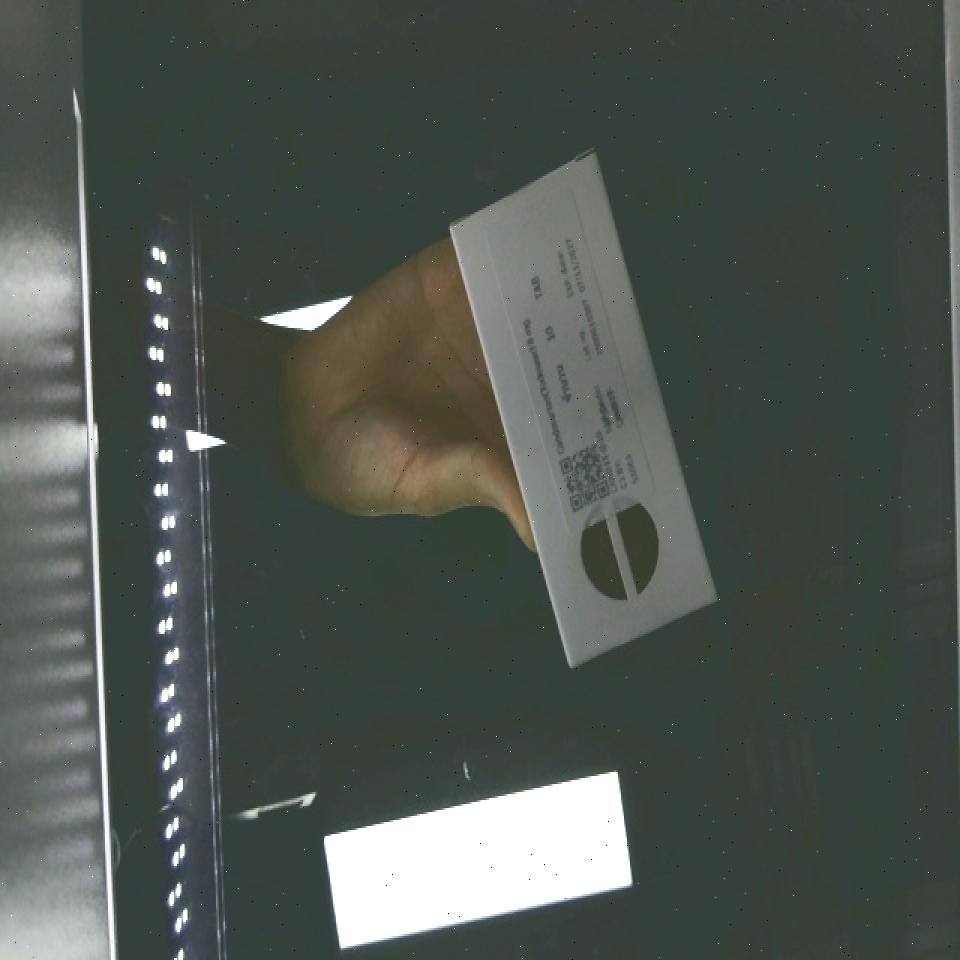medicine_box: (440, 152, 729, 672)
qr_code: (542, 428, 632, 535)
